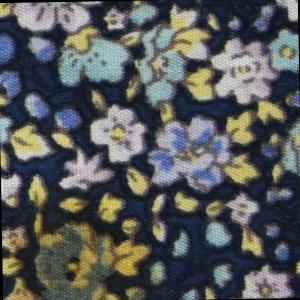Oil Stain: (9, 187, 161, 300)
